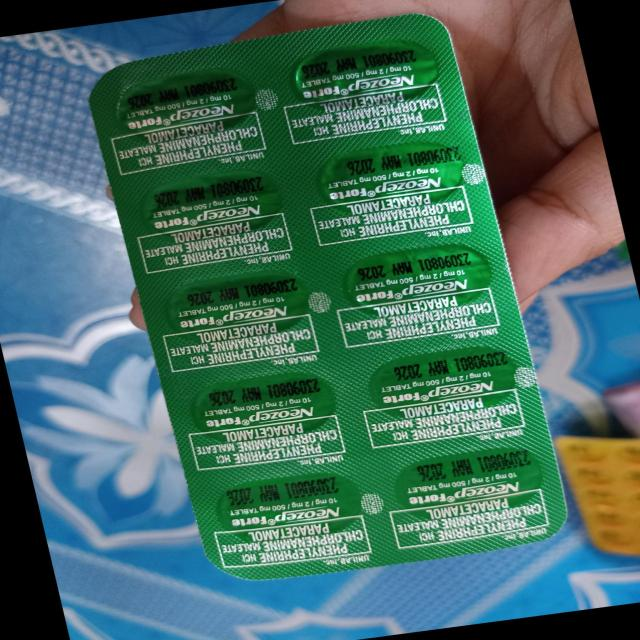Neozep_Strip: (68, 6, 578, 589)
